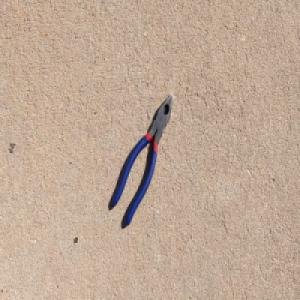Pliers: (111, 92, 174, 228)
